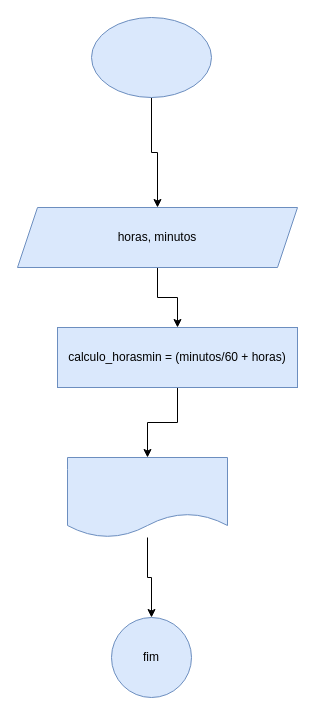
Some shapes in this 315 by 715 pixel diagram are drawn without their labels. The centre of each missing label's shape, as x and y in pixels:
inicio: point (151, 57)
print(calculo_horasmin): point (147, 497)
